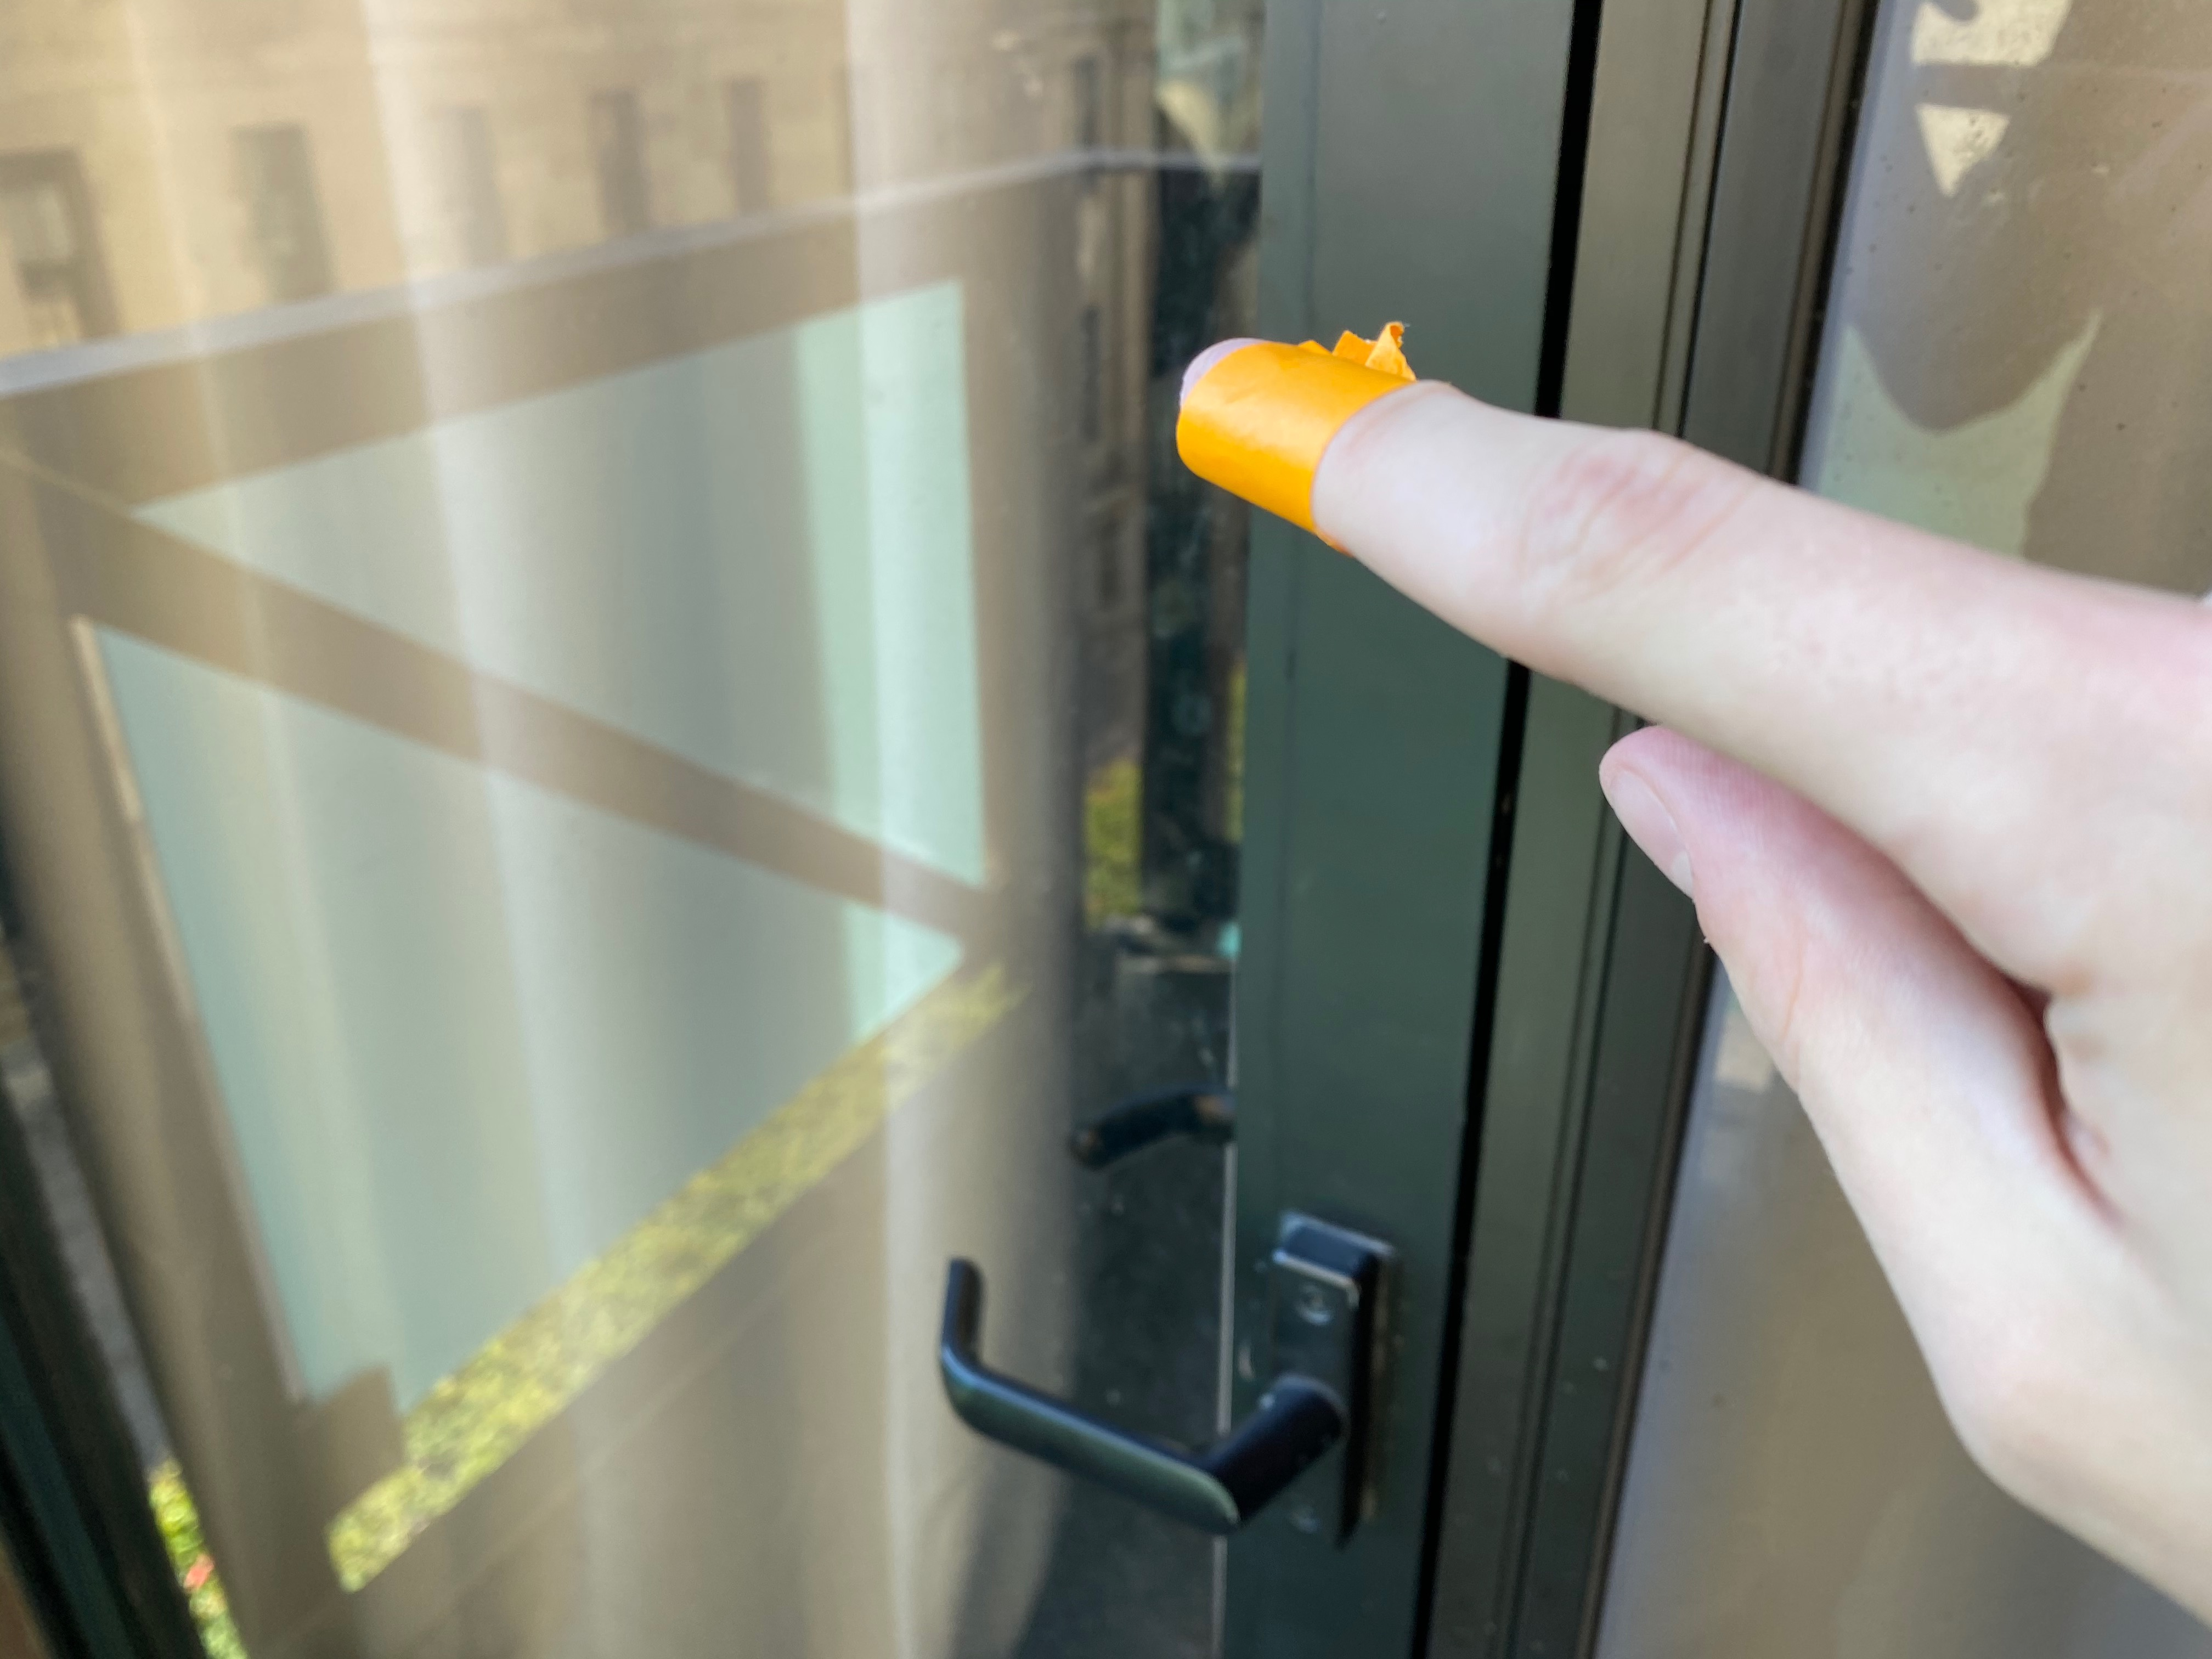fingertip: (1165, 319, 1496, 582)
